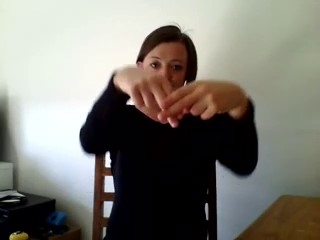F: (123, 65, 235, 134)
